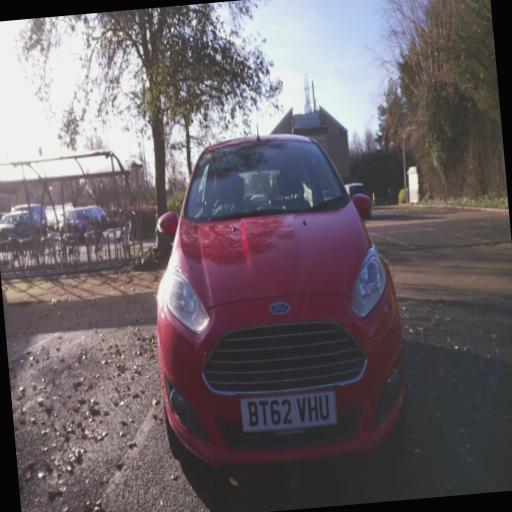numberplates: (241, 391, 337, 432)
